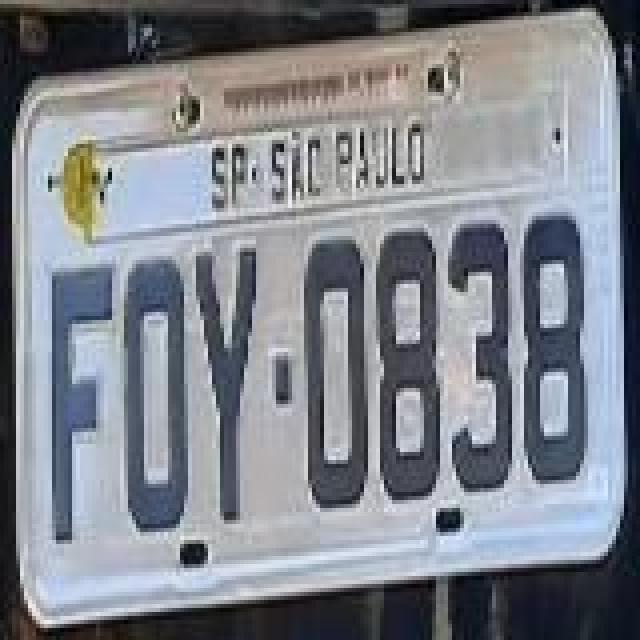3: (446, 212, 514, 492)
8: (372, 220, 444, 508), (516, 210, 588, 486)
F: (46, 258, 114, 550)
O: (118, 254, 186, 538), (302, 230, 370, 514)
Y: (192, 242, 256, 526)
